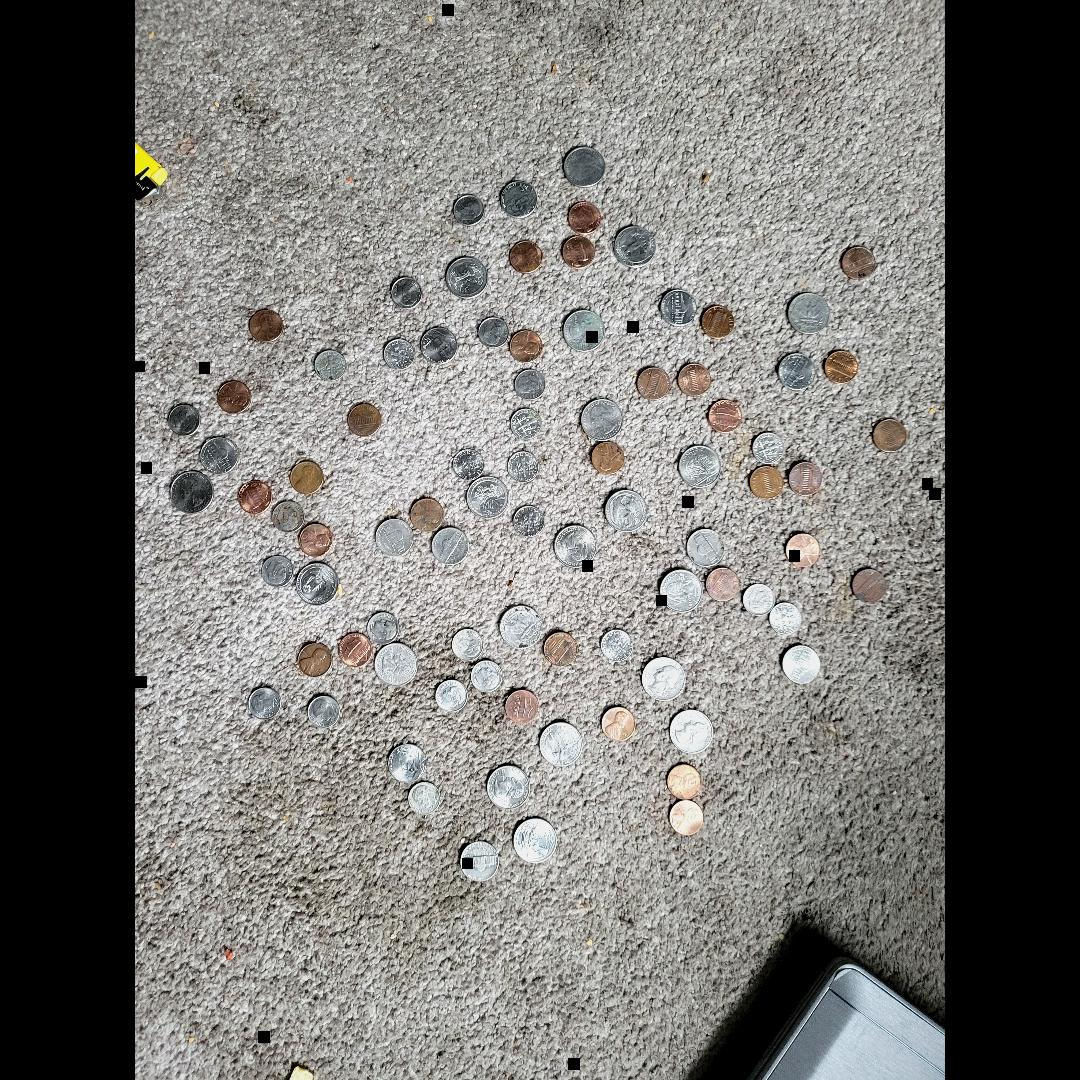Dime: (246, 684, 282, 720), (312, 348, 348, 384), (598, 626, 634, 662), (408, 778, 444, 814), (434, 676, 470, 712), (450, 444, 486, 480), (470, 660, 505, 696), (474, 313, 510, 348), (379, 334, 414, 370), (510, 503, 545, 538), (262, 550, 298, 584), (740, 580, 774, 616), (506, 448, 540, 484), (388, 272, 422, 308), (752, 432, 788, 466), (512, 364, 546, 400), (508, 404, 542, 440), (452, 190, 488, 224), (269, 498, 304, 532), (367, 606, 402, 640), (450, 624, 484, 659), (770, 602, 805, 636), (308, 694, 342, 728), (168, 402, 202, 436)
Nickel: (388, 742, 428, 784), (782, 643, 821, 685), (460, 838, 499, 880), (687, 526, 723, 566), (778, 352, 814, 392), (660, 286, 696, 326), (201, 432, 237, 472), (421, 322, 457, 362), (375, 518, 411, 557), (432, 526, 468, 565), (500, 178, 536, 217)
Penny: (298, 518, 334, 556), (666, 796, 702, 834), (346, 400, 382, 437), (542, 631, 578, 668), (295, 638, 331, 675), (336, 631, 372, 668), (789, 458, 825, 495), (748, 461, 784, 498), (872, 417, 908, 454), (677, 359, 713, 396), (564, 200, 600, 237), (589, 439, 625, 476), (409, 497, 445, 534), (666, 762, 702, 799), (503, 689, 539, 726), (707, 566, 743, 602), (850, 566, 886, 602), (786, 530, 822, 566), (706, 400, 742, 436), (841, 246, 877, 282), (823, 348, 859, 384), (699, 302, 735, 338), (637, 364, 673, 400), (559, 232, 595, 268), (506, 238, 542, 274), (508, 328, 544, 364), (289, 458, 325, 494), (237, 480, 273, 516), (215, 376, 251, 412), (247, 304, 283, 340), (599, 706, 635, 742)
Quarter: (484, 760, 532, 810), (678, 443, 726, 493), (601, 485, 649, 535), (464, 473, 512, 523), (550, 523, 598, 573), (292, 558, 340, 608), (497, 600, 545, 650), (657, 567, 705, 617), (638, 652, 686, 702), (667, 707, 715, 757), (535, 719, 583, 769), (509, 815, 557, 865), (371, 638, 419, 688), (165, 465, 213, 515), (783, 287, 831, 337), (607, 220, 655, 270), (558, 305, 606, 355), (440, 253, 488, 303), (579, 394, 627, 441), (559, 147, 607, 187)
